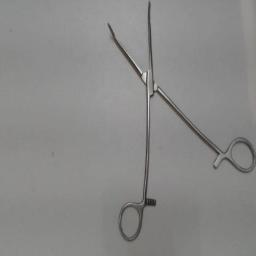Lahey Forceps: (100, 0, 256, 244)
